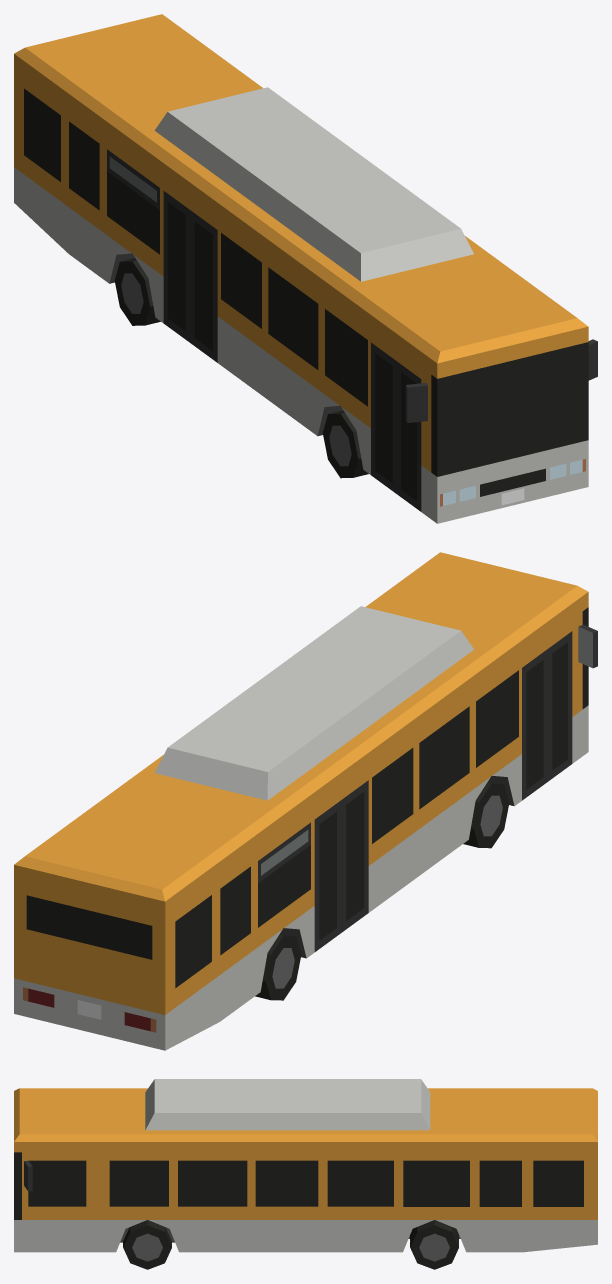
Rendered from Veh_Bus_01_Yellow.obj.
3 renders of one model, top to bottom at view 1: azimuth 30°, elevation 25°; view 2: azimuth 150°, elevation 25°; view 3: azimuth 270°, elevation 25°, orthographic. The views are drawn at different scales.
Size of the model in its own units: 1.7 by 1.83 by 6.53.
